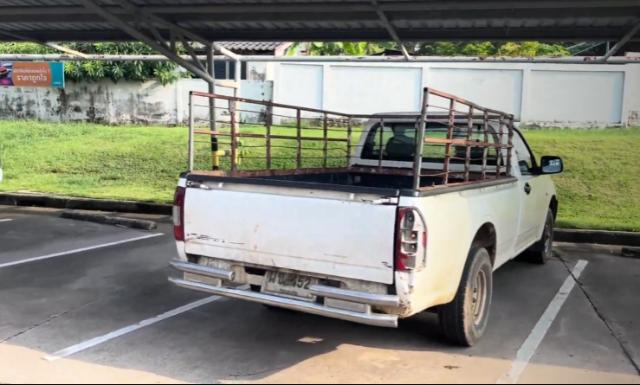pickup-truck: (164, 84, 565, 347)
